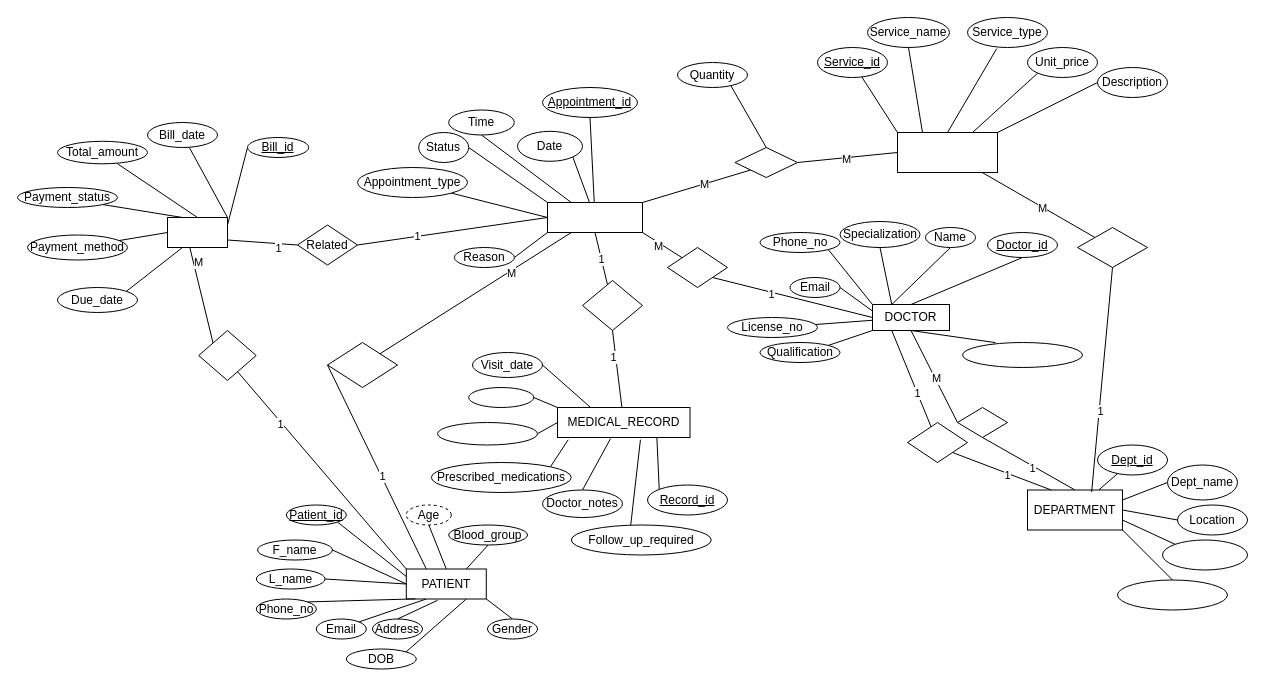
Some shapes in this 1265 by 687 pixel diagram are drawn without their labels. The centre of each missing label's shape, as x and y in pixels:
APPOINTMENT: pixel 594 217
BILLING: pixel 197 232
Contact_number: pixel 1172 594
Diagnosis: pixel 501 397
Have: pixel 697 267
Include: pixel 766 162
Manage: pixel 937 442
No_of_doctors: pixel 1205 554
Offers: pixel 1112 247
Receive: pixel 227 355
Results: pixel 612 305
Schedule: pixel 362 365
SERVICE: pixel 947 152
Treatment_plan: pixel 487 433
Work: pixel 982 422
Years_of_experience: pixel 1022 355
